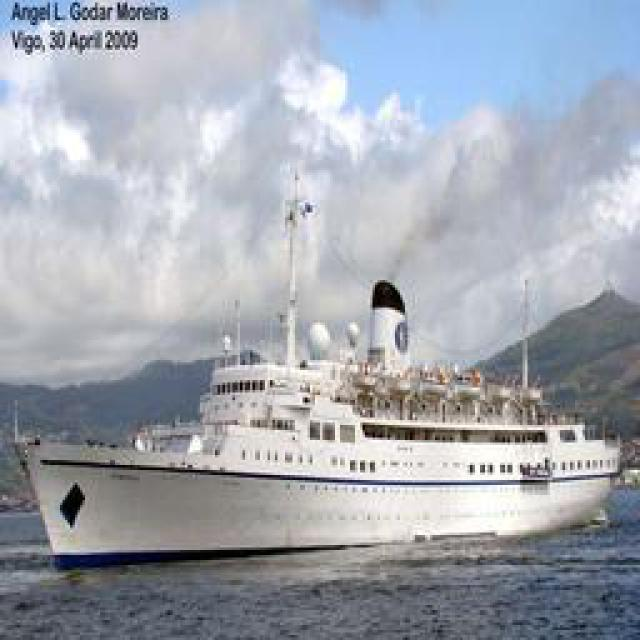Ship: (24, 311, 619, 566)
